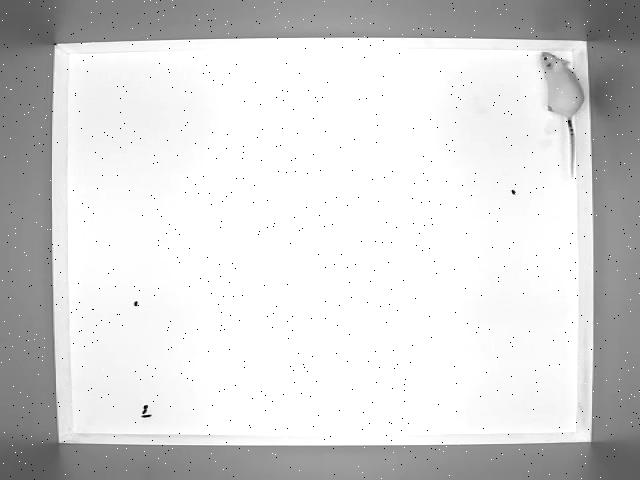Tikus: (530, 48, 591, 182)
